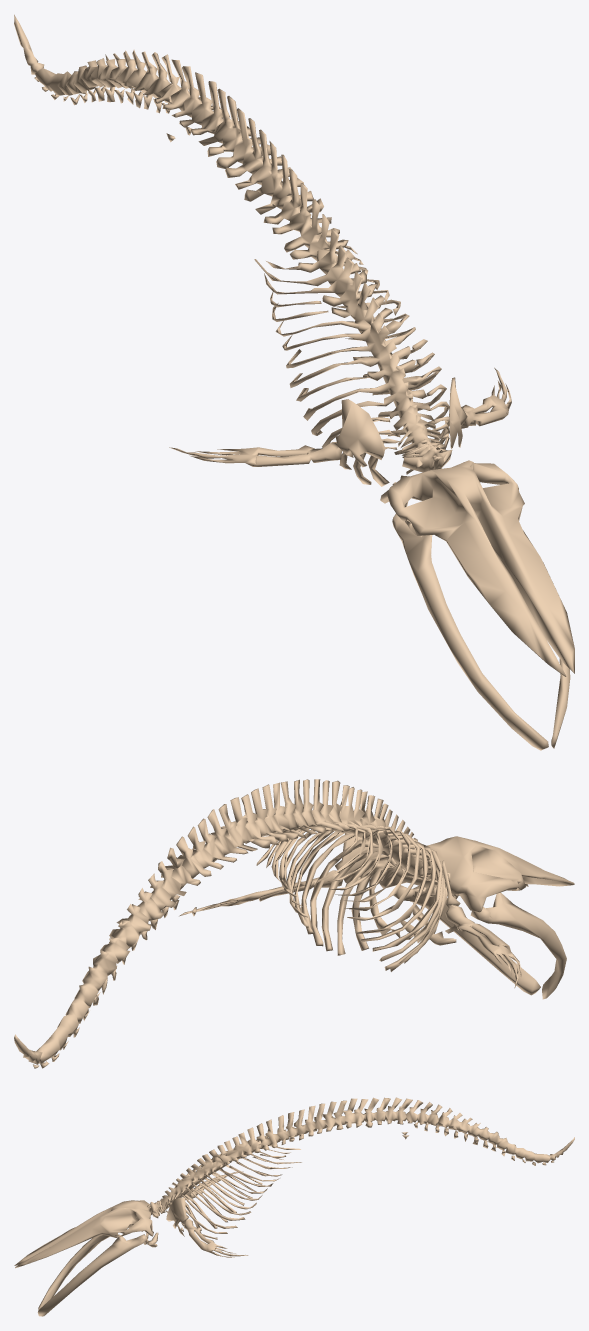
File: nhm_blue_whale_6k.glb
The picture shows the model from 3 angles, top to bottom: view 1: azimuth 30°, elevation 25°; view 2: azimuth 150°, elevation 25°; view 3: azimuth 270°, elevation 25°; orthographic projection. The views are drawn at different scales.
Visible parts, largest first — view 1: Object_2; view 2: Object_2; view 3: Object_2.
Part boxes in pixels (left/top/right/bottom): Object_2: left=14, top=14, right=574, bottom=750; Object_2: left=14, top=779, right=574, bottom=1068; Object_2: left=14, top=1097, right=574, bottom=1316.
Bounding box in the file's own units: 13.22 × 16.41 × 38.42.
